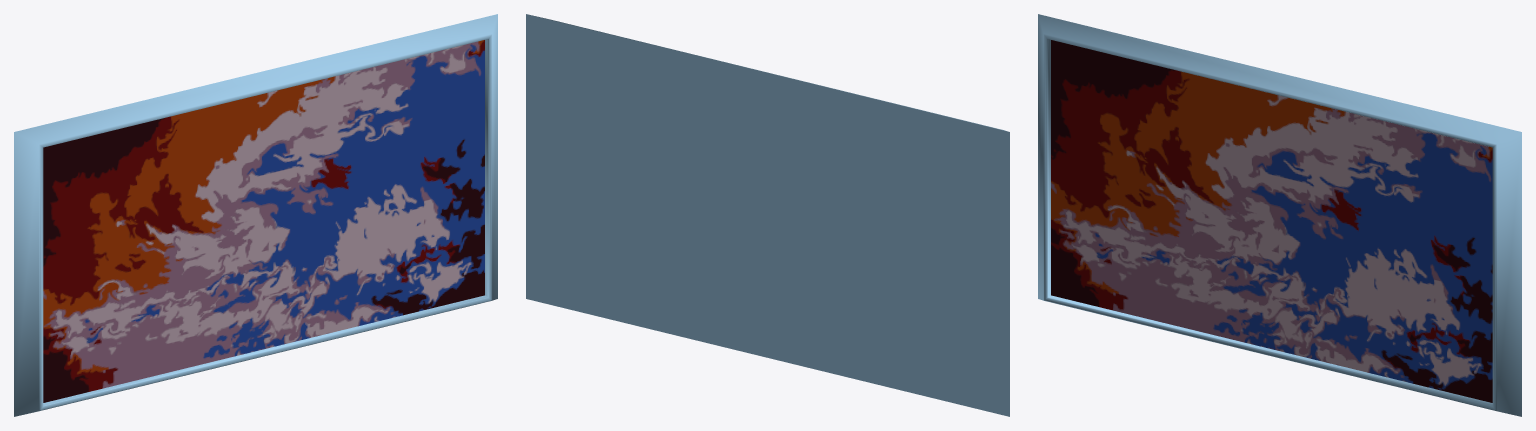
The model's file is Chart-2.fbx.
3 renders of one model, left to right at view 1: azimuth 30°, elevation 25°; view 2: azimuth 150°, elevation 25°; view 3: azimuth 330°, elevation 25°, orthographic.
Parts seen in each view (by area): view 1: Chart-2; view 2: Chart-2; view 3: Chart-2.
Boxes of the visible parts, <box> form: Chart-2: <box>14,14,497,416</box>; Chart-2: <box>526,14,1009,416</box>; Chart-2: <box>1038,14,1521,416</box>.
Bounding box in the file's own units: 4.63 × 2.6 × 0.1659.
